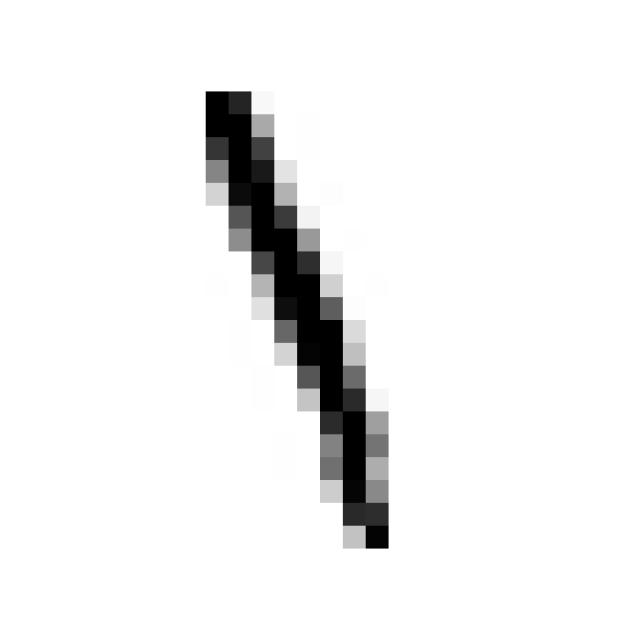1 -one-: (185, 76, 411, 576)
